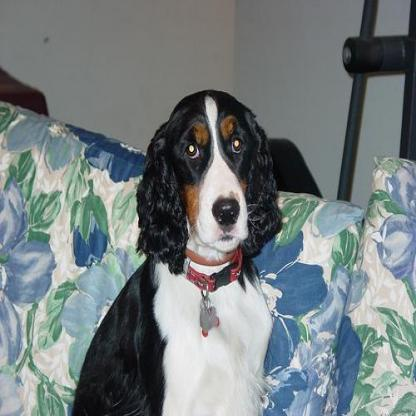English_springer: (69, 86, 285, 414)
